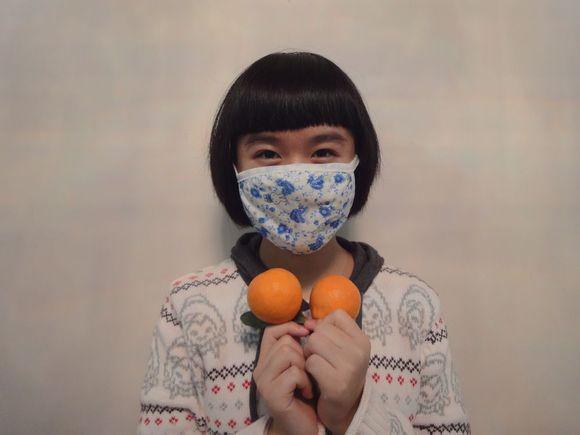OK: (242, 128, 358, 252)
